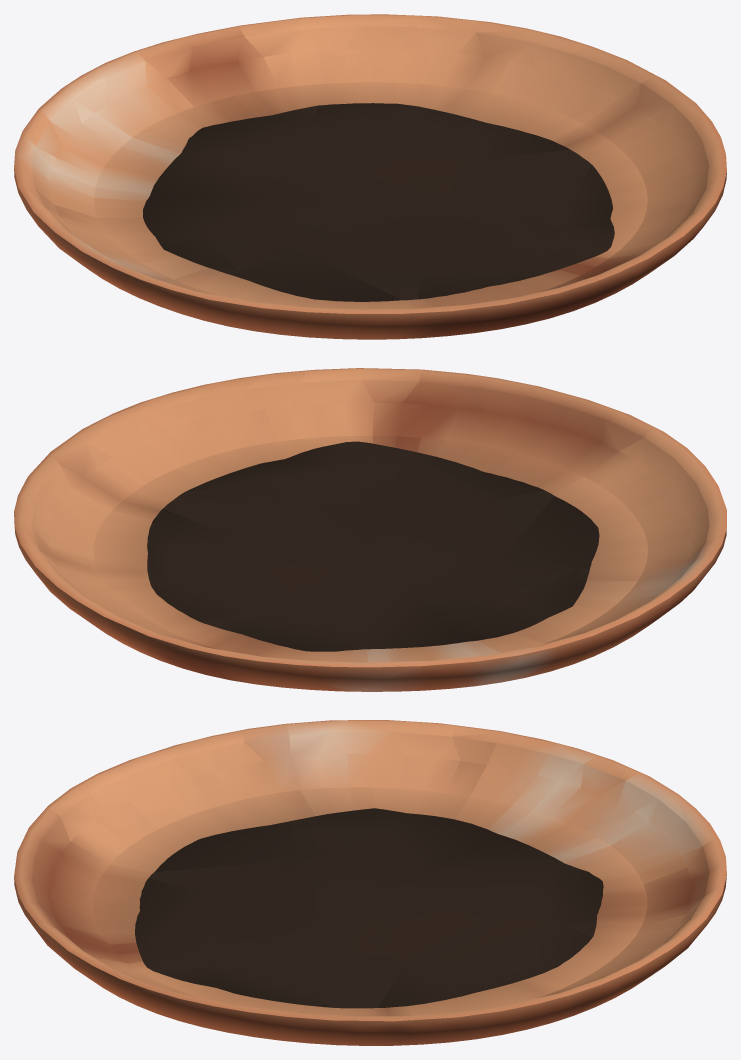
File: canopy_saucer_lod1.glb
3 views of the same model, one above another, from view 1: azimuth 30°, elevation 25°; view 2: azimuth 150°, elevation 25°; view 3: azimuth 270°, elevation 25° (orthographic).
Visible parts, largest first — view 1: canopy_saucer.001; view 2: canopy_saucer.001; view 3: canopy_saucer.001.
Boxes of the visible parts, bbox=[...] form: canopy_saucer.001: bbox=[14, 14, 726, 339]; canopy_saucer.001: bbox=[14, 368, 726, 691]; canopy_saucer.001: bbox=[14, 720, 726, 1045].
Size of the model in its own units: 9.83 by 0.9929 by 9.86.
